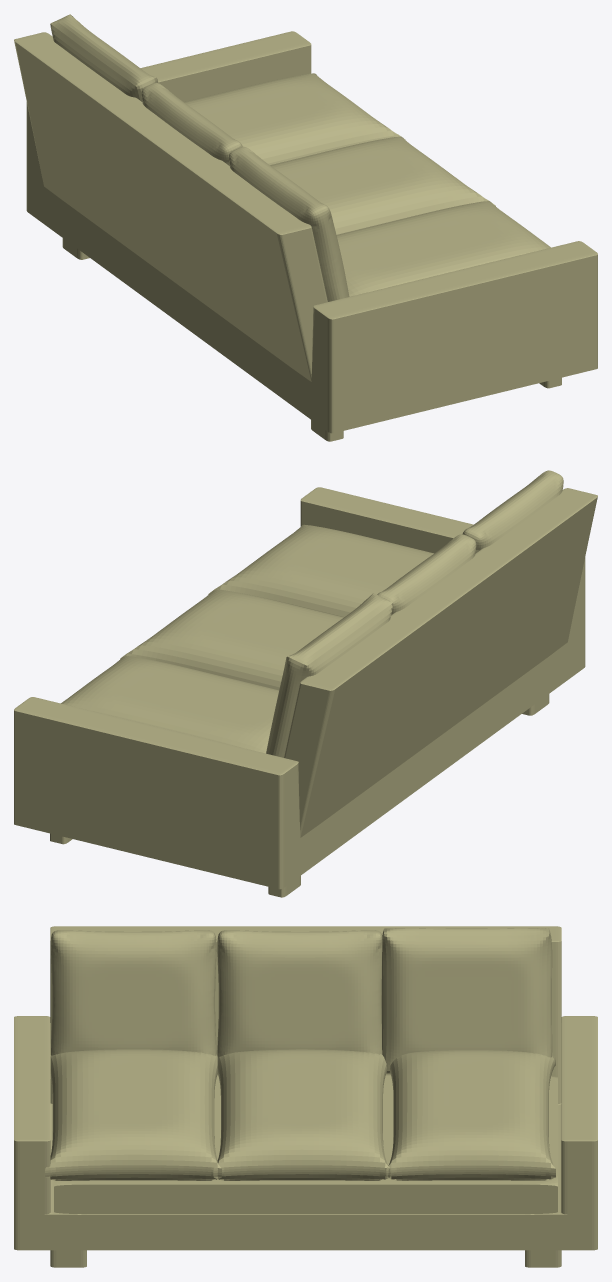
The model's file is ZsCOUCH.fbx.
The picture shows the model from 3 angles, top to bottom: view 1: azimuth 30°, elevation 25°; view 2: azimuth 150°, elevation 25°; view 3: azimuth 270°, elevation 25°; orthographic projection. The views are drawn at different scales.
Visible parts, largest first — view 1: Cube, Cube.002, Cube.003, Cube.004, Cube.005, Cube.007, Cube.006; view 2: Cube, Cube.004, Cube.003, Cube.002, Cube.007, Cube.005, Cube.006; view 3: Cube, Cube.002, Cube.003, Cube.007, Cube.004, Cube.005, Cube.006, Cube.001.
Part boxes in pixels (<box>): Cube: <box>14,31,597,441</box>; Cube.002: <box>336,201,550,296</box>; Cube.003: <box>270,136,495,234</box>; Cube.004: <box>184,73,405,164</box>; Cube.005: <box>229,146,349,301</box>; Cube.007: <box>50,14,158,101</box>; Cube.006: <box>141,83,242,165</box>; Cube: <box>14,487,597,897</box>; Cube.004: <box>61,655,278,753</box>; Cube.003: <box>120,589,343,690</box>; Cube.002: <box>208,524,433,617</box>; Cube.007: <box>266,593,393,757</box>; Cube.005: <box>462,470,563,553</box>; Cube.006: <box>377,534,476,615</box>; Cube: <box>14,926,597,1267</box>; Cube.002: <box>45,1049,221,1180</box>; Cube.003: <box>213,1049,390,1180</box>; Cube.007: <box>381,928,552,1073</box>; Cube.004: <box>386,1050,555,1180</box>; Cube.005: <box>50,930,216,1055</box>; Cube.006: <box>217,930,382,1057</box>; Cube.001: <box>54,1075,557,1214</box>.
Size of the model in its own units: 401 by 301 by 703.
